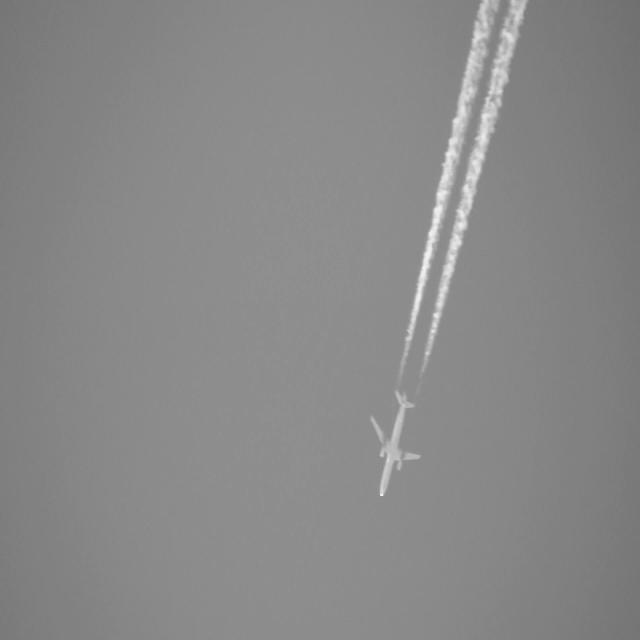aeroplane: (369, 387, 420, 502)
